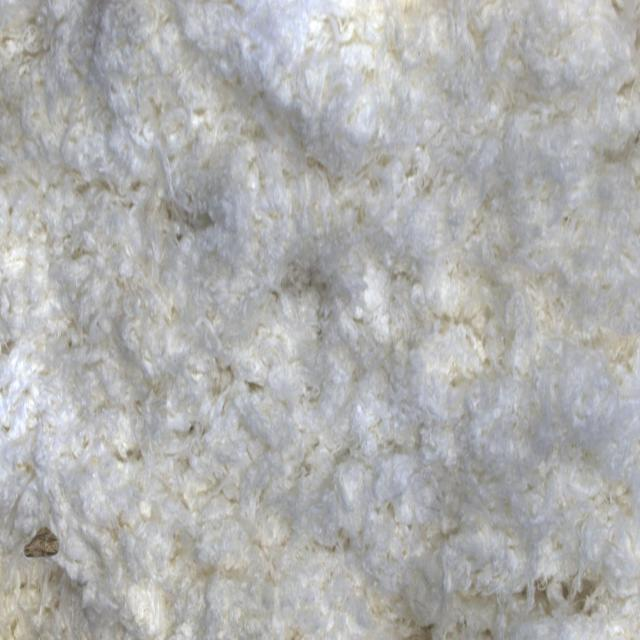dust: (8, 499, 84, 594)
